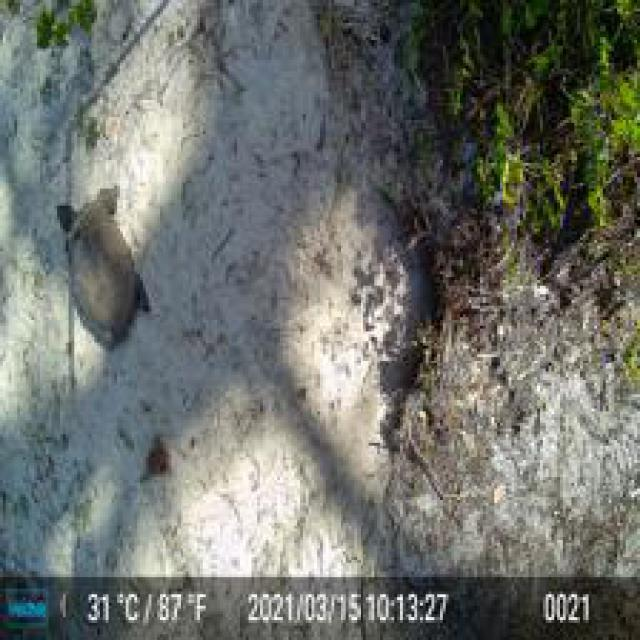tortoise: (46, 194, 152, 346)
